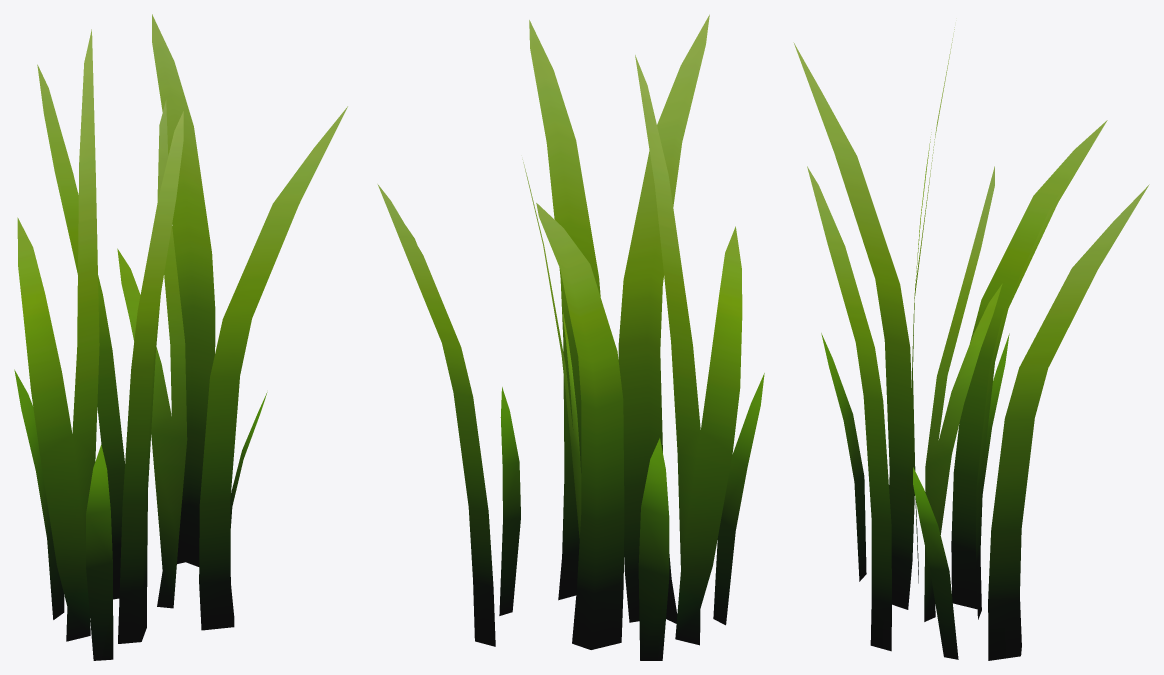
File: prop_grass_common_short.glb
3 renders of one model, left to right at view 1: azimuth 30°, elevation 25°; view 2: azimuth 150°, elevation 25°; view 3: azimuth 270°, elevation 25°, orthographic. The views are drawn at different scales.
Parts seen in each view (by area): view 1: Grass_Common_Short; view 2: Grass_Common_Short; view 3: Grass_Common_Short.
Boxes of the visible parts, x1=… form: Grass_Common_Short: x1=14, y1=14, x2=347, y2=660; Grass_Common_Short: x1=377, y1=14, x2=764, y2=660; Grass_Common_Short: x1=793, y1=27, x2=1149, y2=660.
Bounding box in the file's own units: 0.6389 × 1.33 × 0.7373.
Materials: 1 (1 with a texture image).
